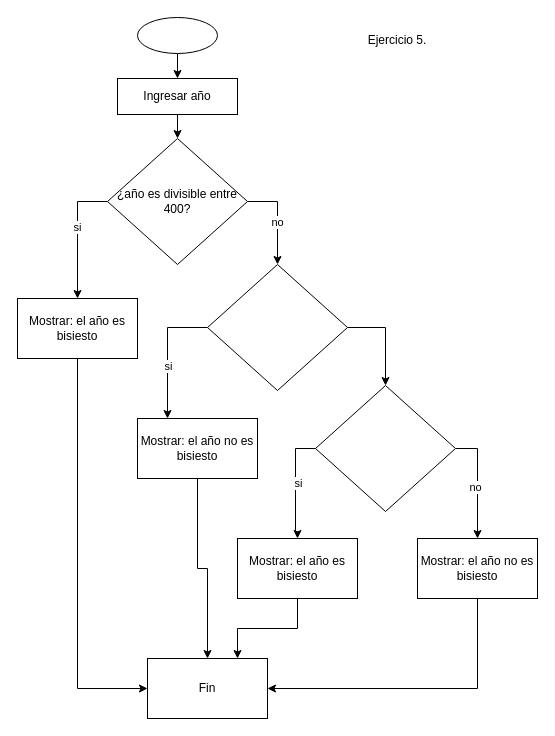
Some shapes in this 555 by 736 pixel diagram are drawn without their labels. Here are the shapes that lost their labels. From the top down, the centre of each, then its label:
[177,35]: Inicio
[277,327]: ¿año es divisible entre 100?
[385,448]: ¿año es divisible entre 4?
